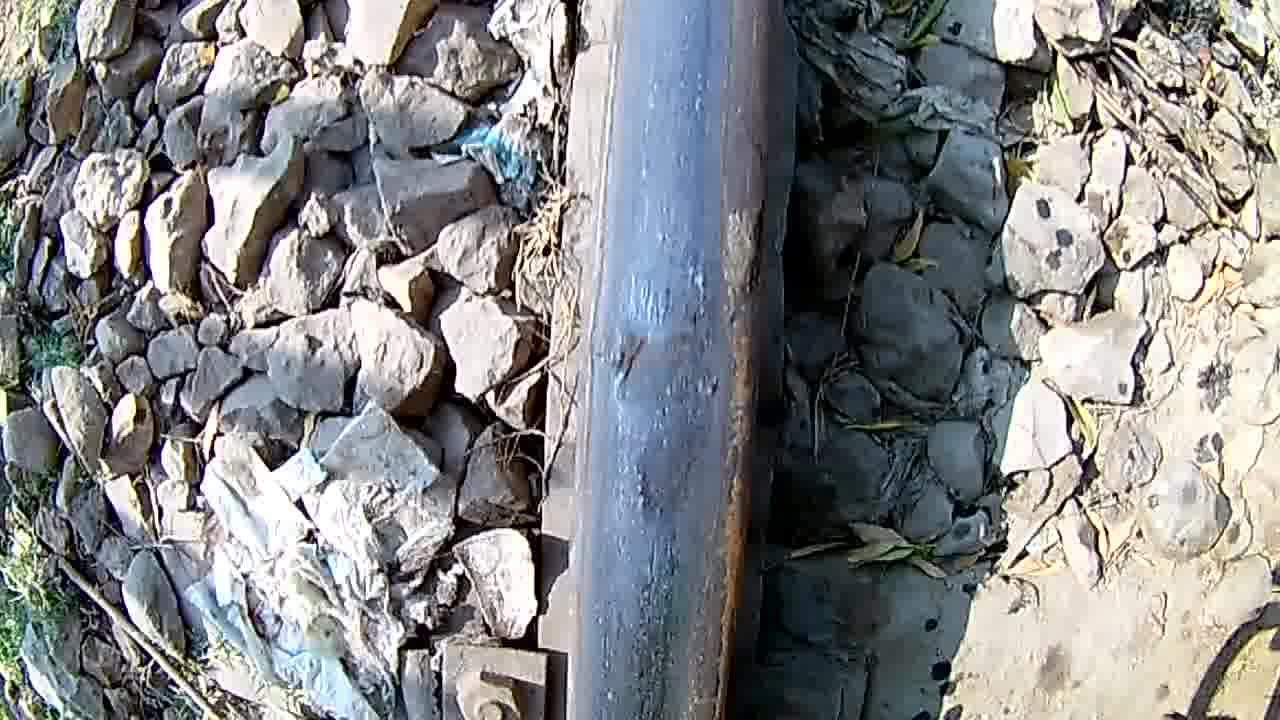bolt_missing: (580, 243, 740, 625)
